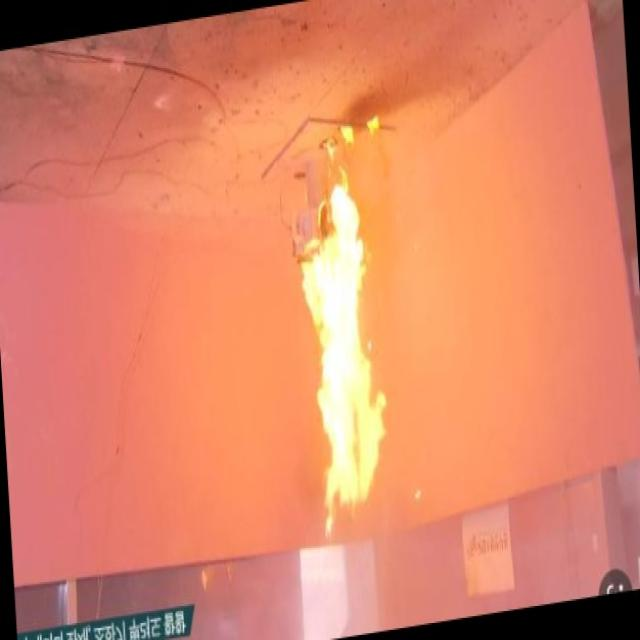fire: (274, 132, 410, 551)
